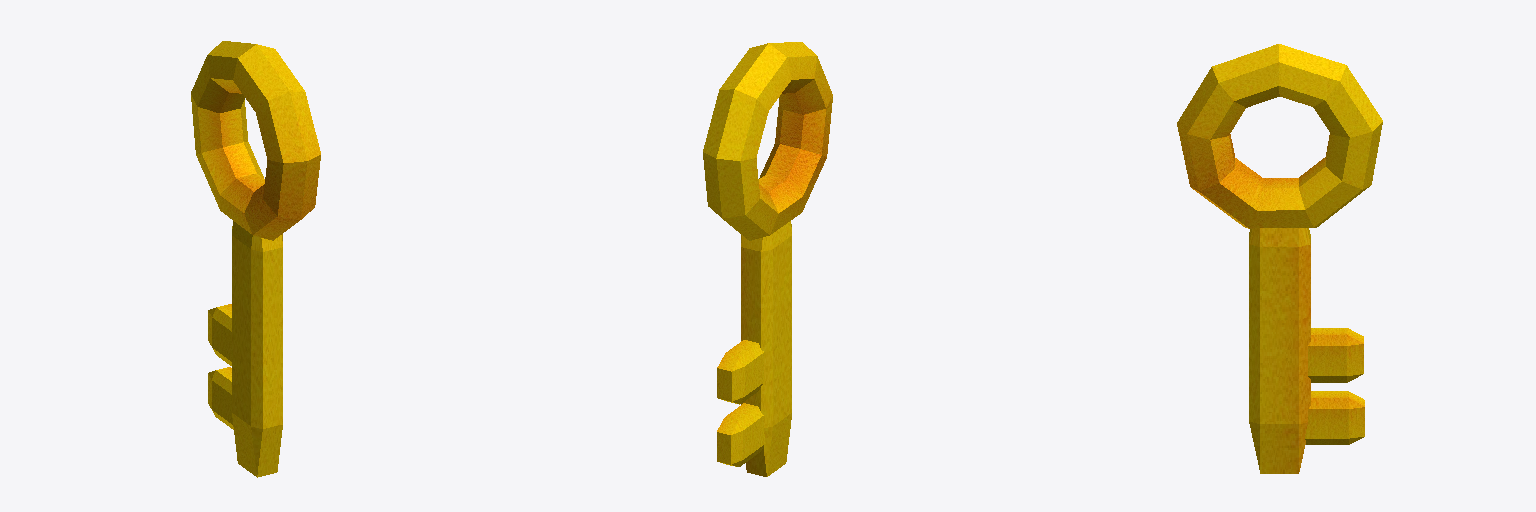
3 views of the same model, side by side, from view 1: azimuth 30°, elevation 25°; view 2: azimuth 150°, elevation 25°; view 3: azimuth 270°, elevation 25° (orthographic).
Visible parts, largest first — view 1: Cube.002; view 2: Cube.002; view 3: Cube.002.
Part boxes in pixels (x1,y1,x2,y2): Cube.002: (191, 41, 320, 477); Cube.002: (703, 42, 832, 476); Cube.002: (1177, 44, 1382, 473).
Size of the model in its own units: 0.351 by 3.04 by 1.34.
Materials: 3 (1 with a texture image).